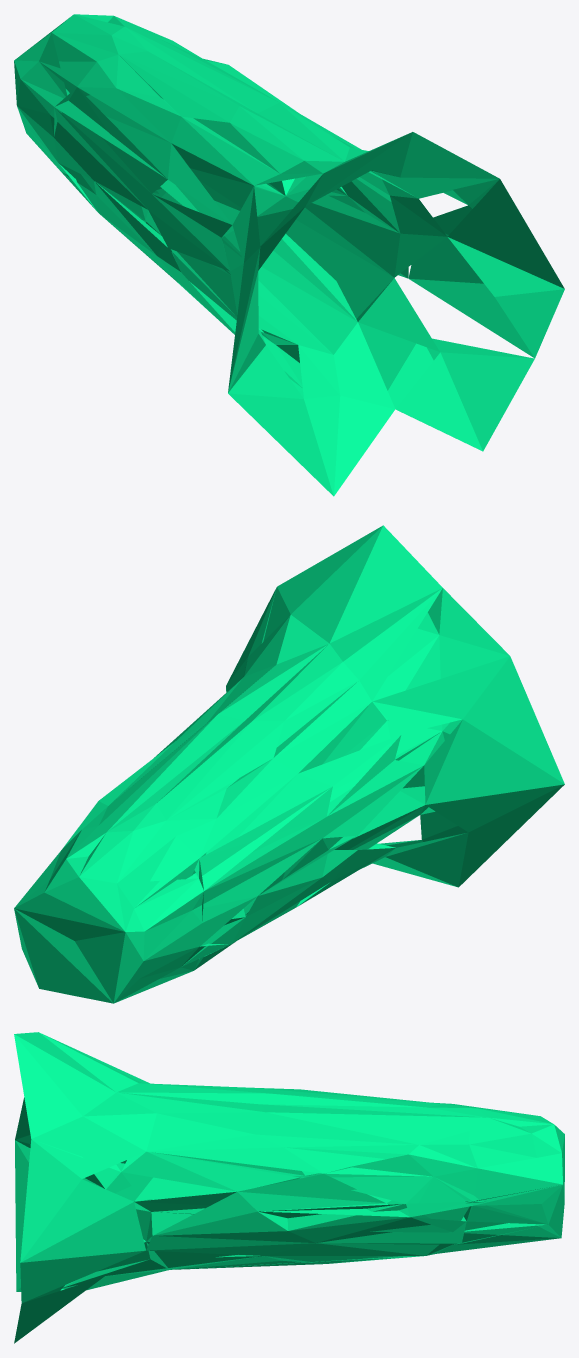
File: model_align.obj
3 views of the same model, one above another, from view 1: azimuth 30°, elevation 25°; view 2: azimuth 150°, elevation 25°; view 3: azimuth 270°, elevation 25° (orthographic). The views are drawn at different scales.
Bounding box in the file's own units: 0.098 × 0.0955 × 0.1646.
